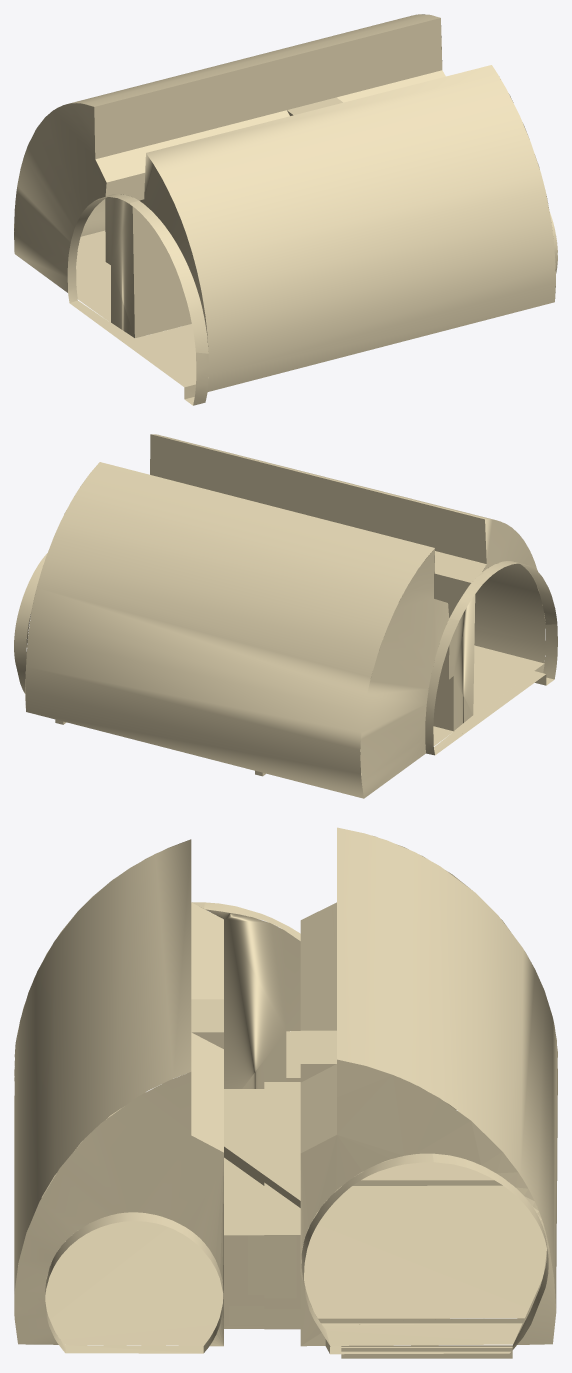
File: 4-decimated-resmoothed-mirror.FBX
3 renders of one model, top to bottom at view 1: azimuth 30°, elevation 25°; view 2: azimuth 150°, elevation 25°; view 3: azimuth 270°, elevation 25°, orthographic. The views are drawn at different scales.
Visible parts, largest first — view 1: 4-decimated-resmoothed-mirror; view 2: 4-decimated-resmoothed-mirror; view 3: 4-decimated-resmoothed-mirror.
Boxes of the visible parts, left/top/right/bottom form: 4-decimated-resmoothed-mirror: left=14, top=14, right=557, bottom=405; 4-decimated-resmoothed-mirror: left=14, top=434, right=557, bottom=798; 4-decimated-resmoothed-mirror: left=14, top=827, right=557, bottom=1358.
Bounding box in the file's own units: 1500 × 1346 × 842.
